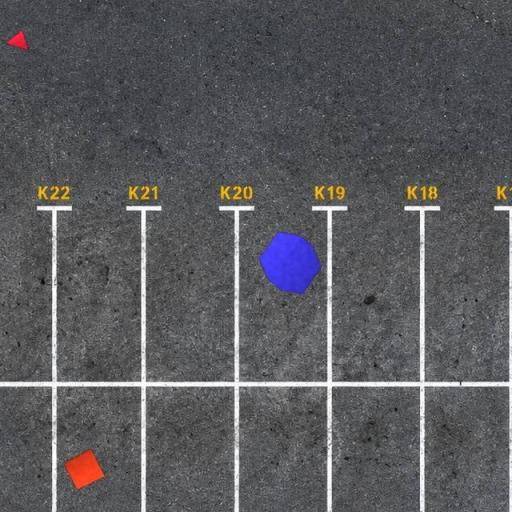RED_SQUARE: (62, 448, 106, 491)
